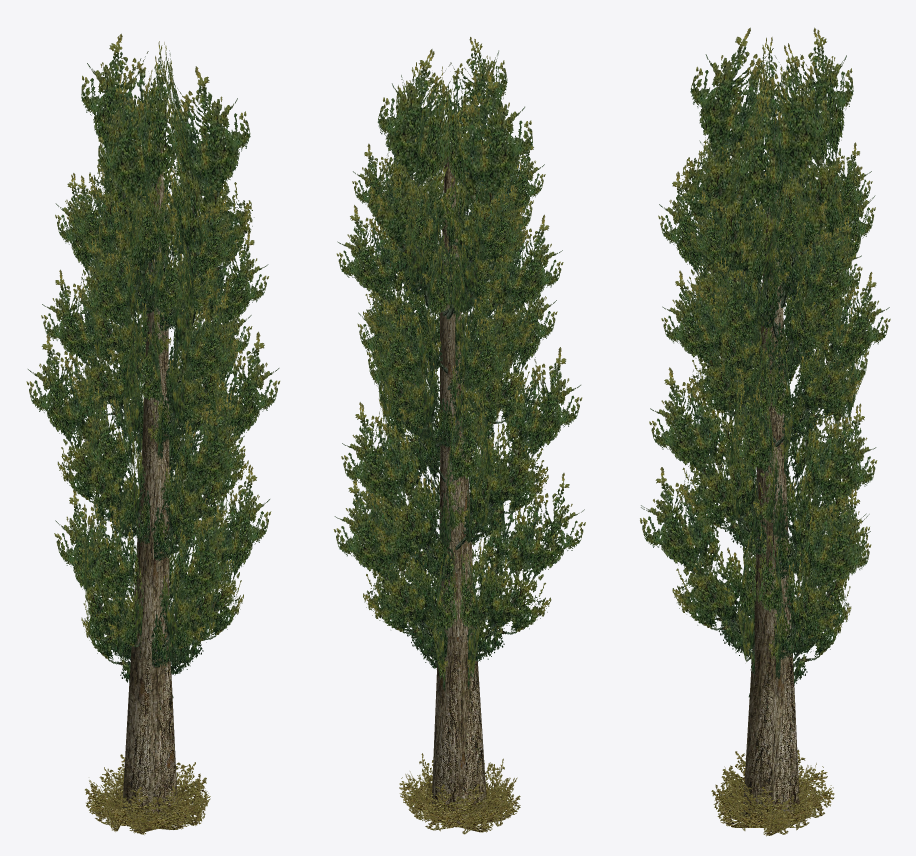
Rendered from w_cd_gra_01.glb.
3 views of the same model, side by side, from view 1: azimuth 30°, elevation 25°; view 2: azimuth 150°, elevation 25°; view 3: azimuth 270°, elevation 25° (orthographic).
Visible parts, largest first — view 1: w_cd_lea_01, w_cd_wood_01, w_cd_gra_01; view 2: w_cd_lea_01, w_cd_wood_01, w_cd_gra_01; view 3: w_cd_lea_01, w_cd_wood_01, w_cd_gra_01.
Part boxes in pixels (bbox=[...]): w_cd_lea_01: bbox=[26, 33, 280, 709]; w_cd_wood_01: bbox=[122, 141, 177, 825]; w_cd_gra_01: bbox=[85, 754, 210, 834]; w_cd_lea_01: bbox=[333, 37, 585, 691]; w_cd_wood_01: bbox=[431, 144, 486, 823]; w_cd_gra_01: bbox=[399, 753, 520, 834]; w_cd_lea_01: bbox=[640, 27, 890, 707]; w_cd_wood_01: bbox=[743, 134, 799, 819]; w_cd_gra_01: bbox=[711, 749, 834, 836].
Size of the model in its own units: 11.95 by 37.95 by 11.86.
Materials: 3 (3 with a texture image).
